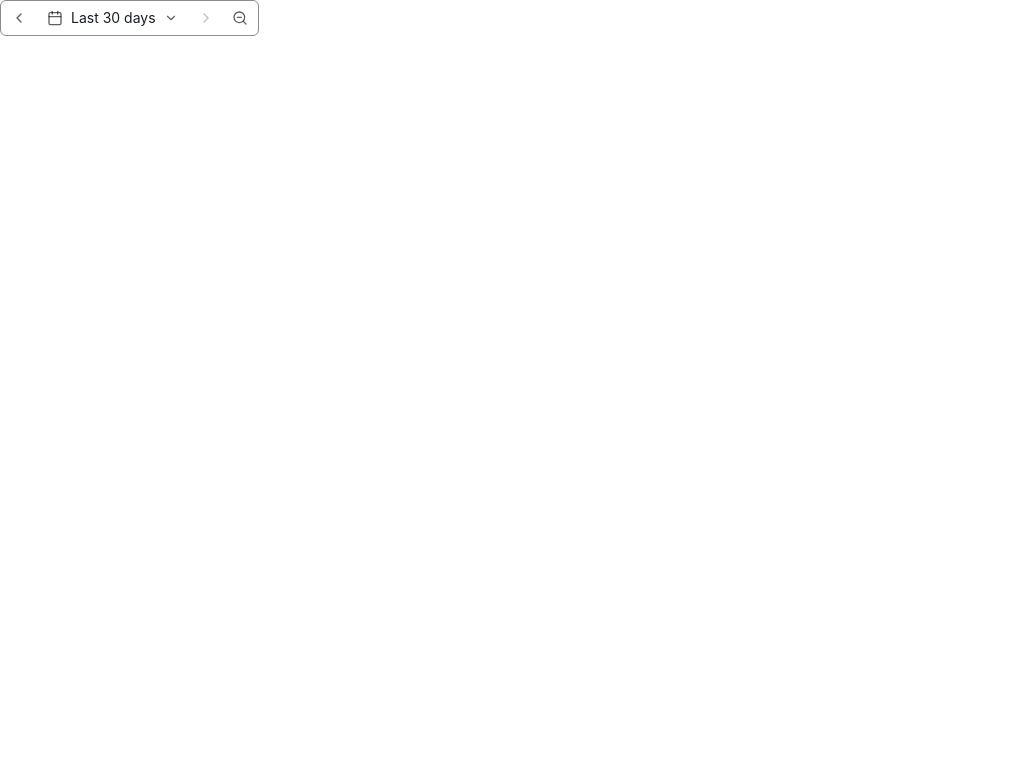
Test: TimeRangePicker › refuses an absolute range longer than the API allows
Click the button "Last 30 days". click: (112, 18)
box: [37,2,188,34]
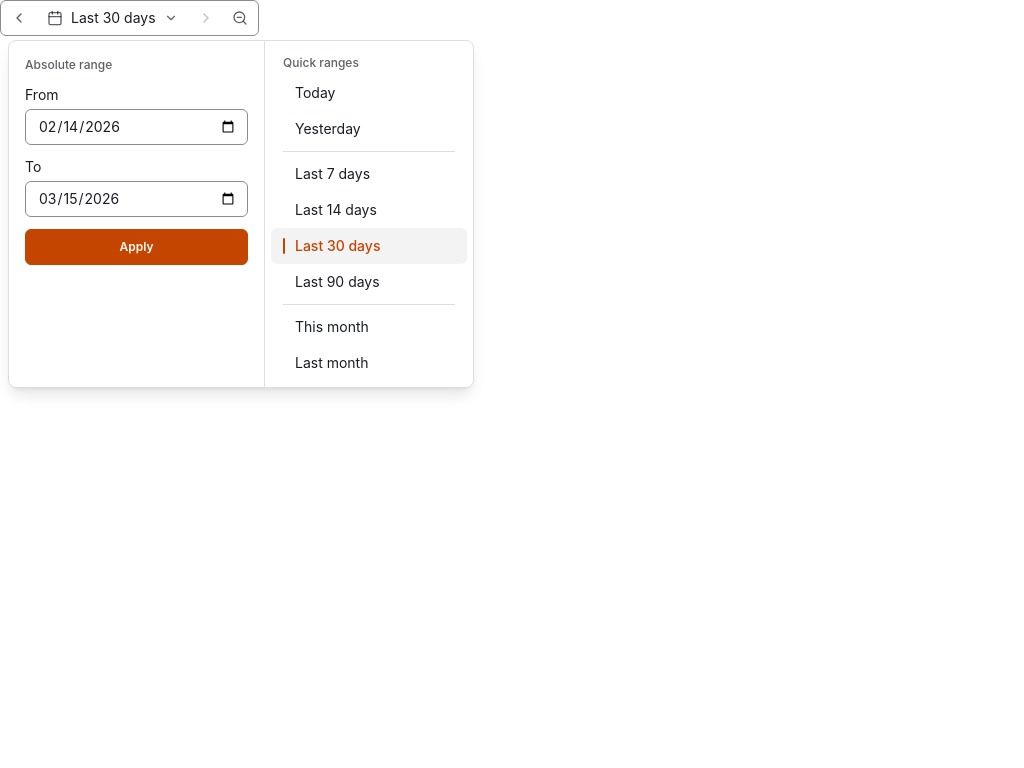
Type "2025-02-08" into the date field labelled "From". click: (136, 127)
box: [25,109,248,145]
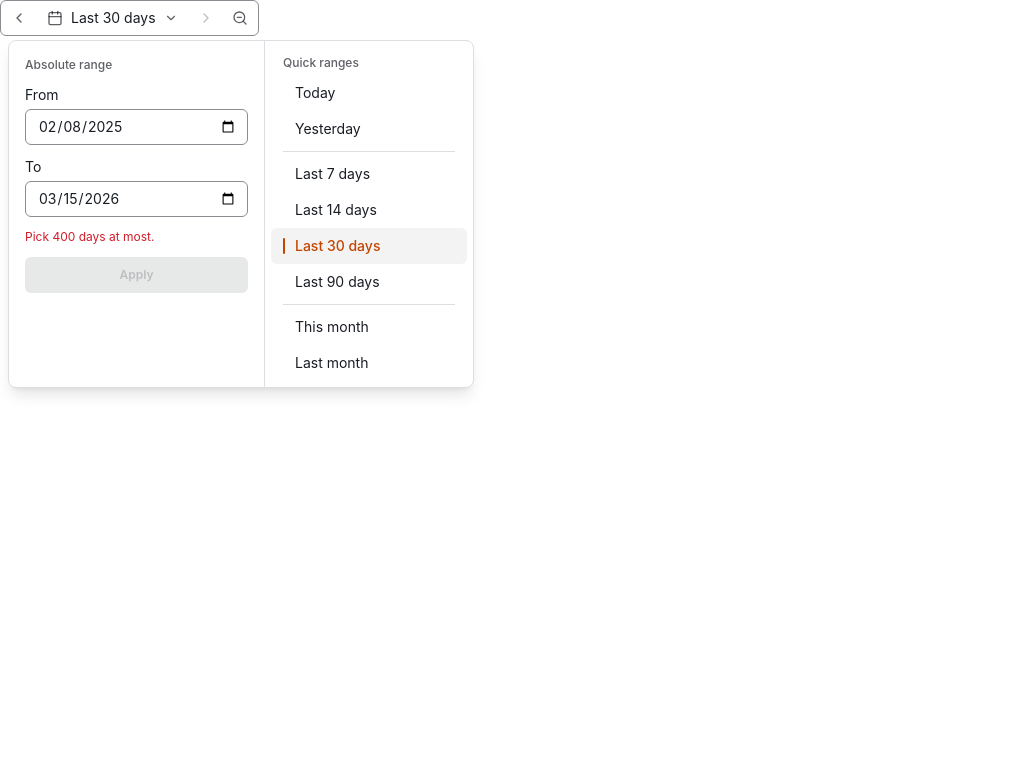
Expected: the message "Pick 400 days at most." is shown, [25,229,154,244]
Expected: the button "Apply" is disabled, [25,257,248,293]
Type "2025-02-09" into the date field labelled "From". click: (136, 127)
box: [25,109,248,145]
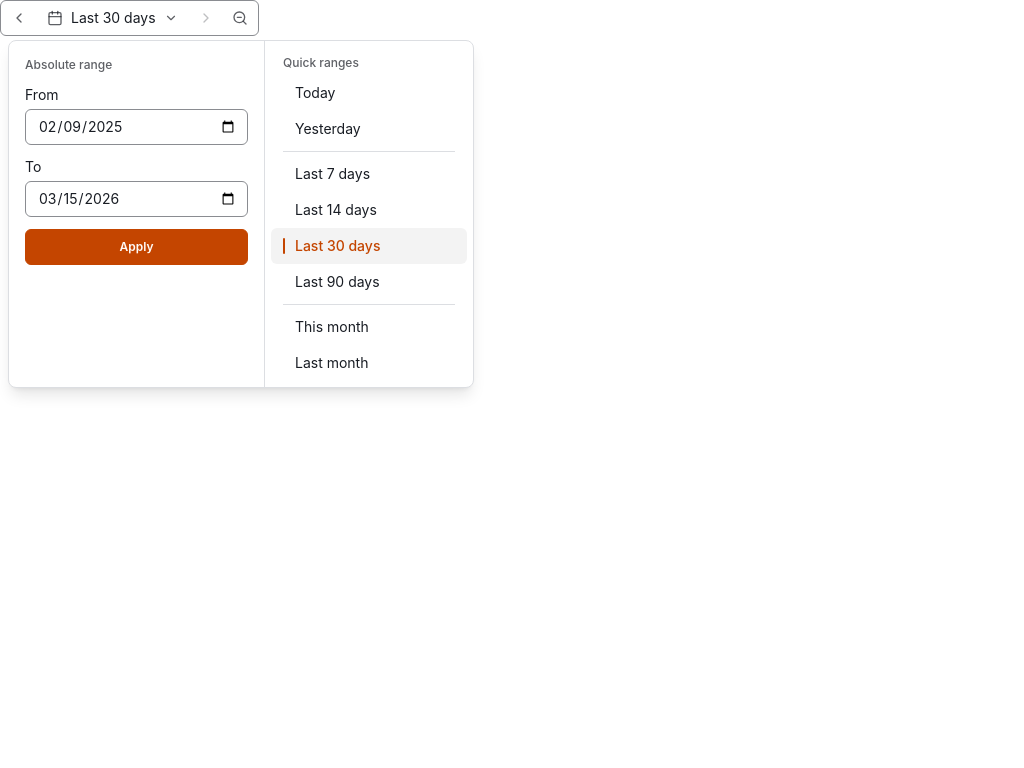
Expected: the button "Apply" is enabled, [25,229,248,265]
